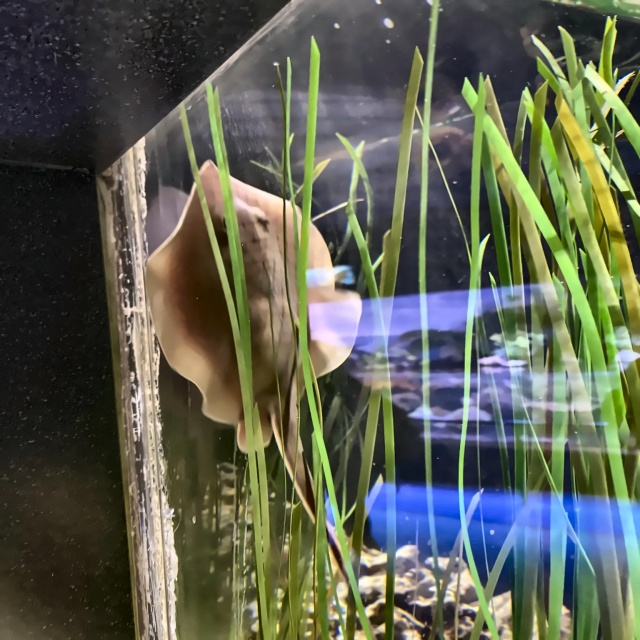stingray: (142, 160, 362, 454)
